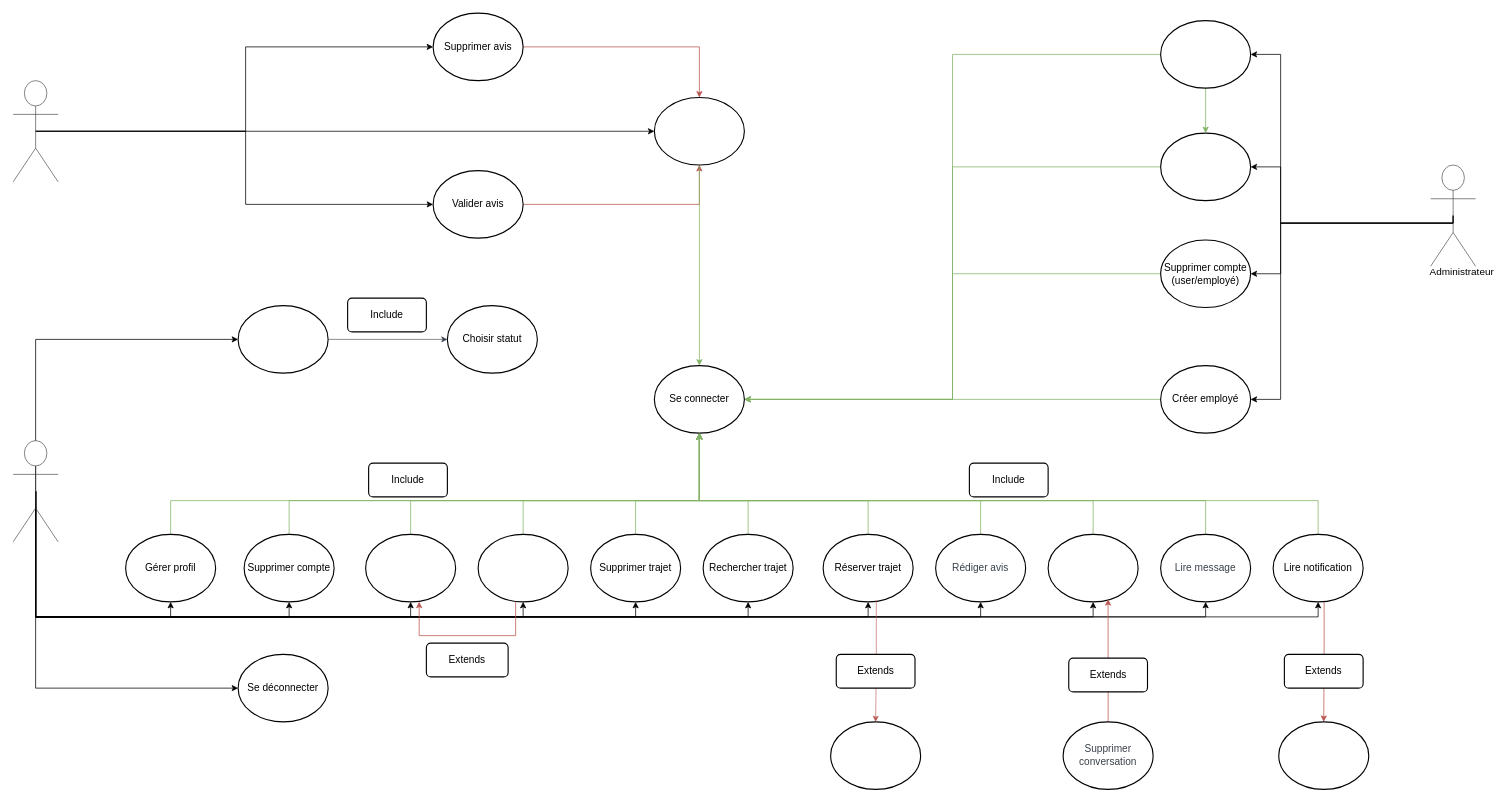
This 1506x803 diagram has some shape labels left out. The shapes that lost their labels are listed below. From the top down, each one's box as (x1, y1, x2, y2) in pixels, then its label:
(1160, 20, 1251, 88): Gérer crédits utilisés
(12, 80, 58, 182): Employe
(653, 97, 745, 165): Consulter avis
(1160, 132, 1251, 201): Voir statistiques crédits
(237, 305, 328, 373): S’inscrire
(12, 440, 58, 542): Utilisateur
(365, 533, 456, 602): Ajouter véhicule
(477, 533, 568, 602): Créer trajet
(1047, 533, 1138, 602): Envoyer message
(830, 721, 921, 790): Annuler réservation
(1278, 721, 1369, 790): Recevoir notification
